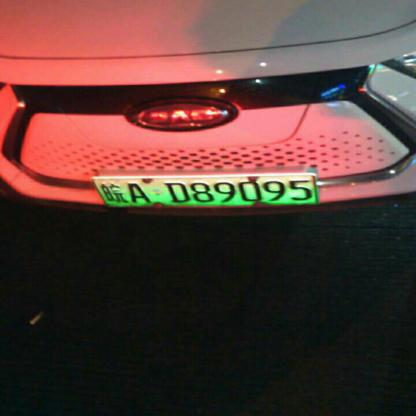lp: (93, 175, 316, 205)
